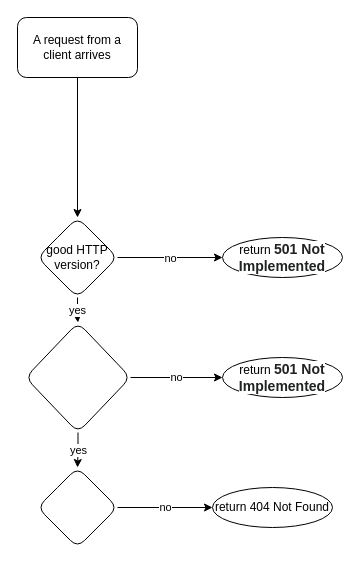
This 360x565 diagram has some shape labels left out. The shapes that lost their labels are listed below. From the top down, each one's centre as x and y in pixels, then its label:
(77,377): Method is implemented? (GET,POST or DELETE)
(77,507): Does the file exist?
